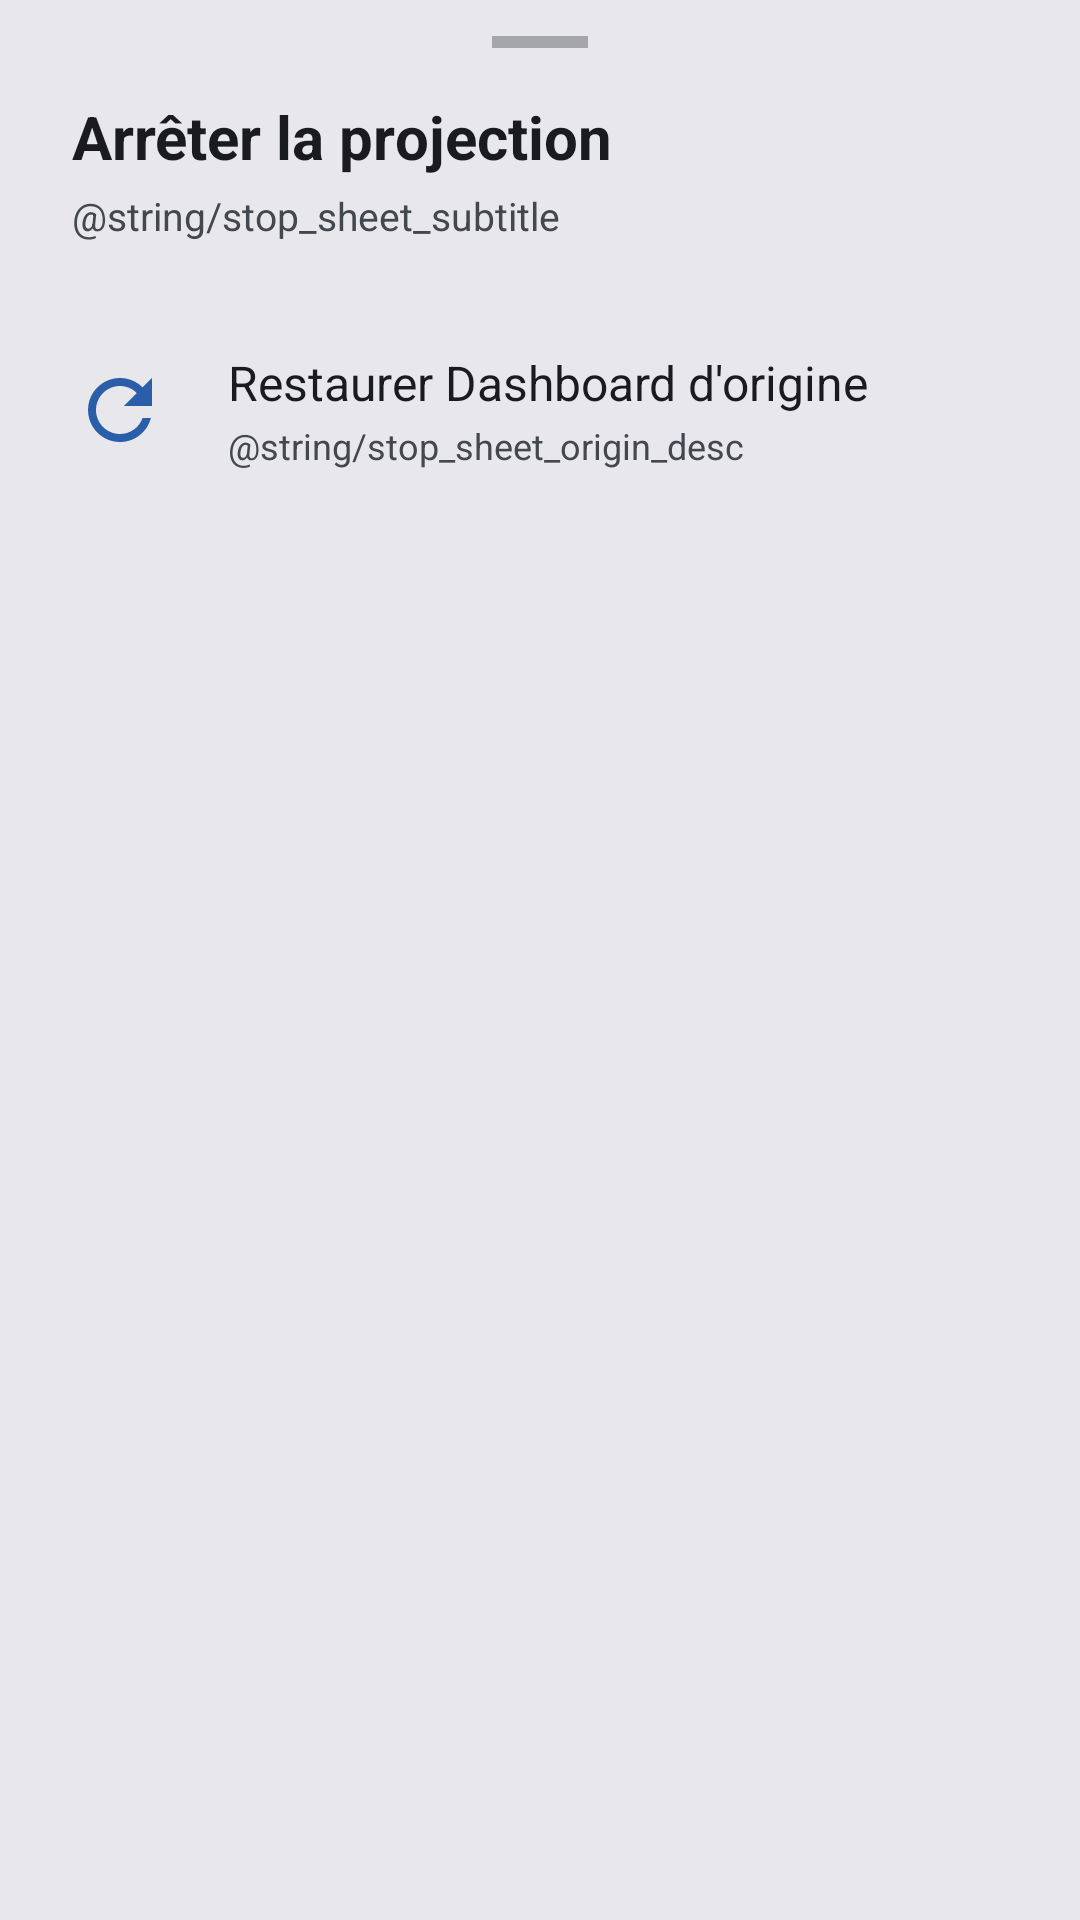

Where to tap for icons on this 1080x1920 app screen, as (x=x, y=y):
refresh: (x=120, y=410)
